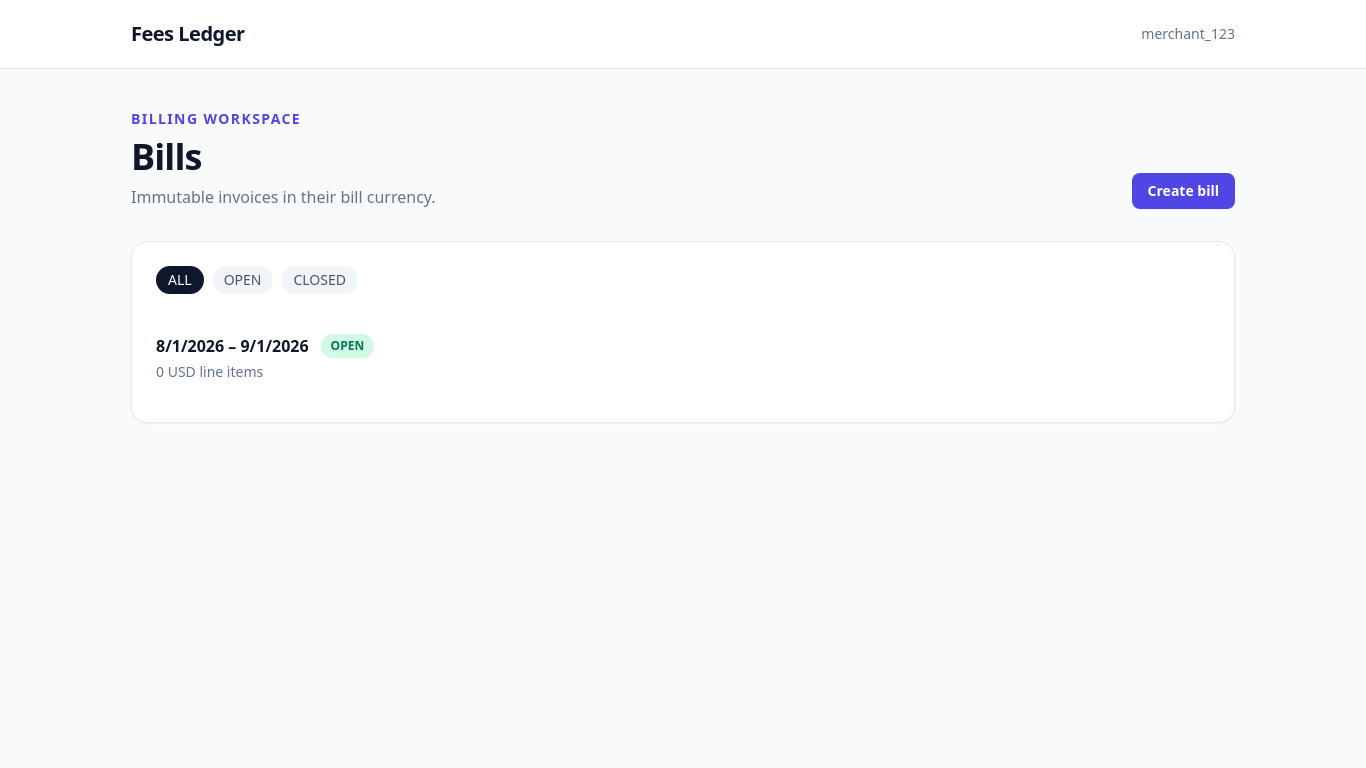
Test case: Fees app › navigates to bill creation
Click the button "Create bill": (1183, 191) [1132,173,1235,209]
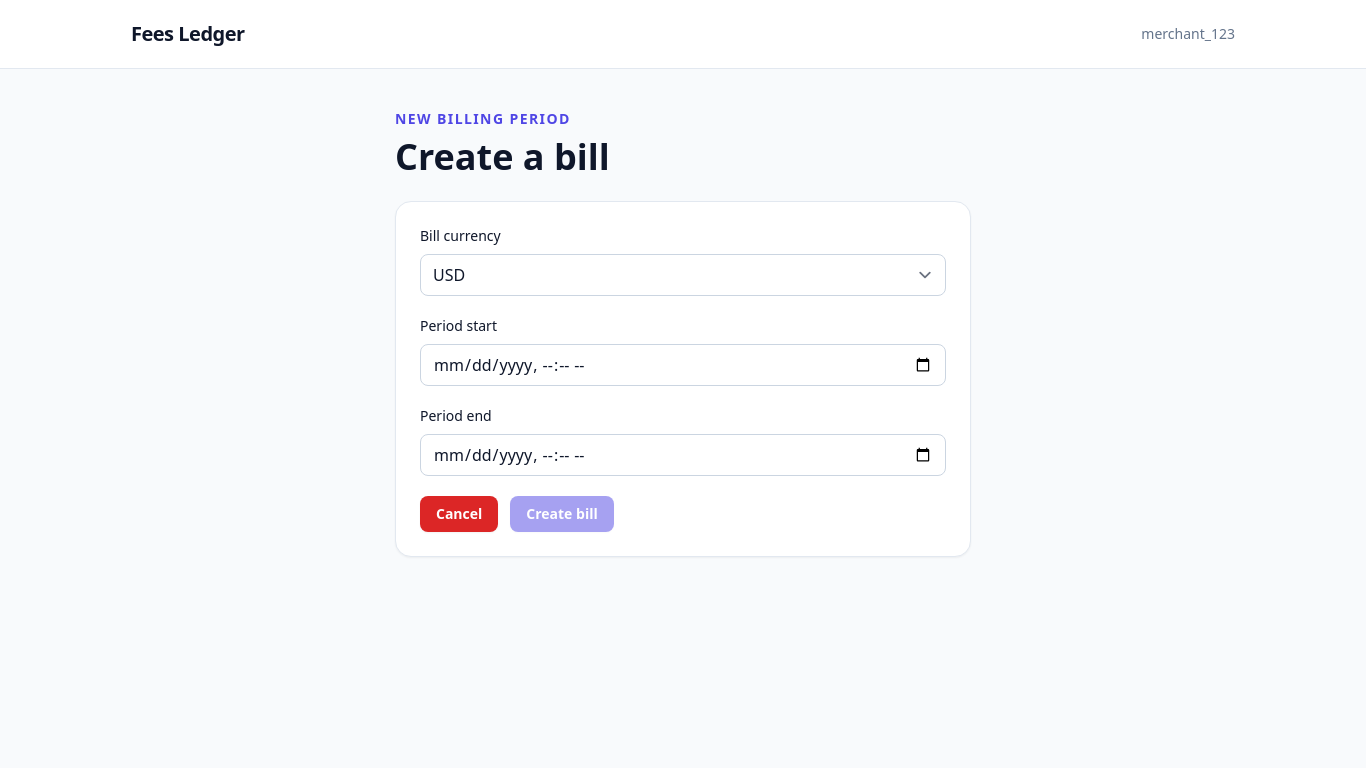
Check: the heading "Create a bill" is shown, box [395,132,610,181]
